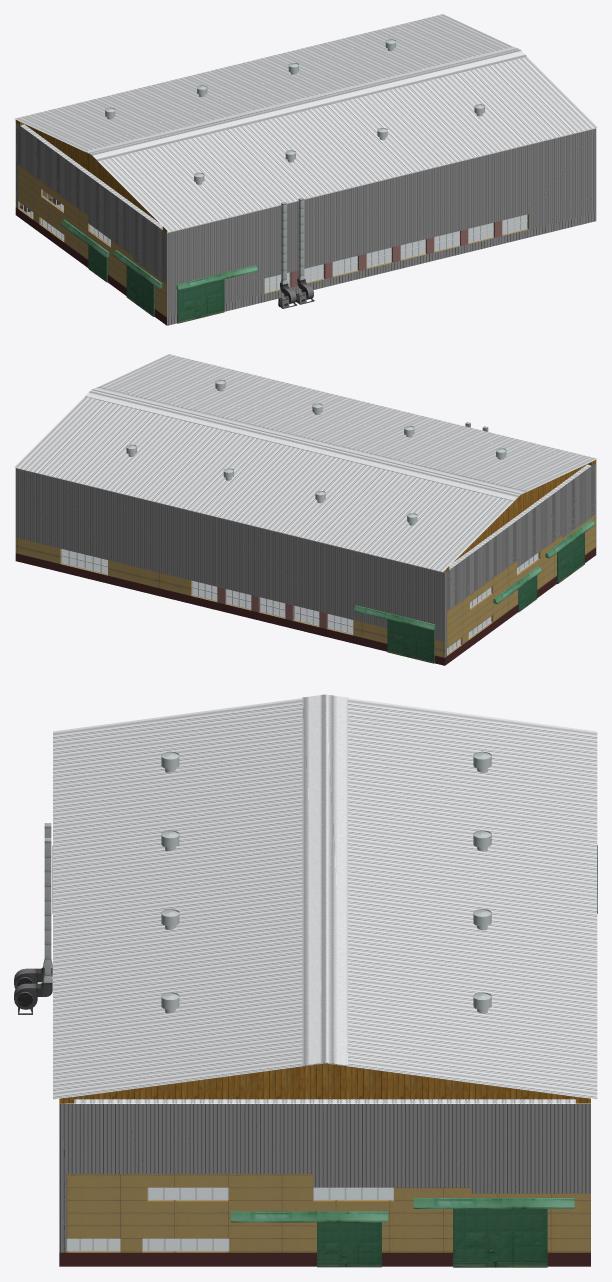
Rendered from industrial_building_1.obj.
3 views of the same model, one above another, from view 1: azimuth 30°, elevation 25°; view 2: azimuth 150°, elevation 25°; view 3: azimuth 270°, elevation 25° (orthographic). The views are drawn at different scales.
Visible parts, largest first — view 1: industrial_building_1; view 2: industrial_building_1; view 3: industrial_building_1.
Part boxes in pixels (bbox=[...]): industrial_building_1: bbox=[14, 14, 597, 325]; industrial_building_1: bbox=[14, 354, 597, 665]; industrial_building_1: bbox=[14, 694, 597, 1267].
Bounding box in the file's own units: 1548 × 394 × 1021.
